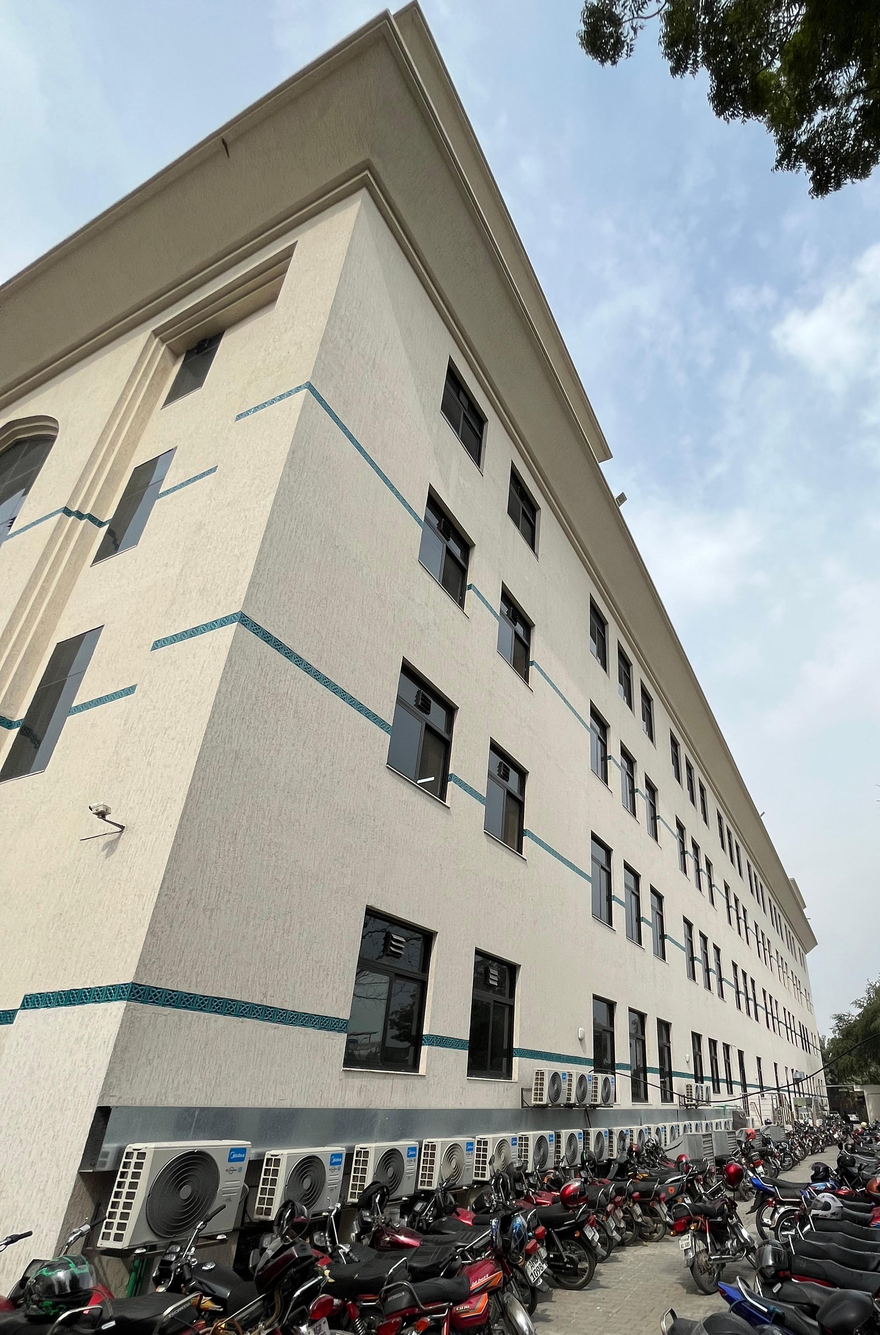Block F: (0, 2, 850, 1157)
